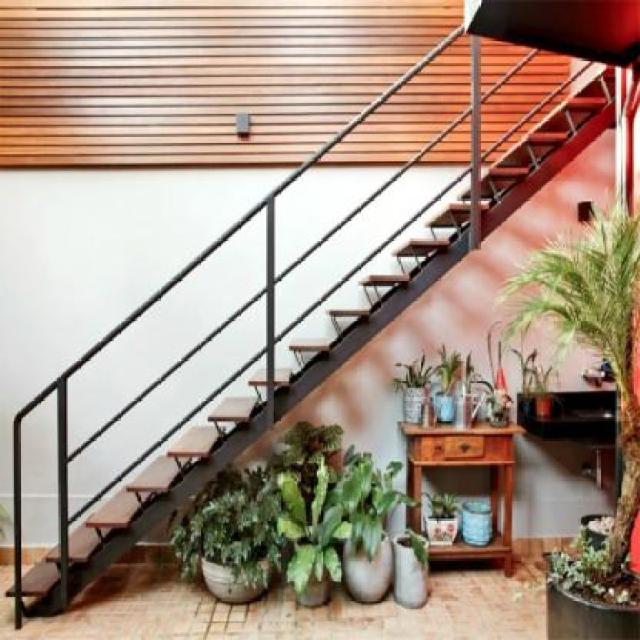stair: (5, 65, 620, 620)
